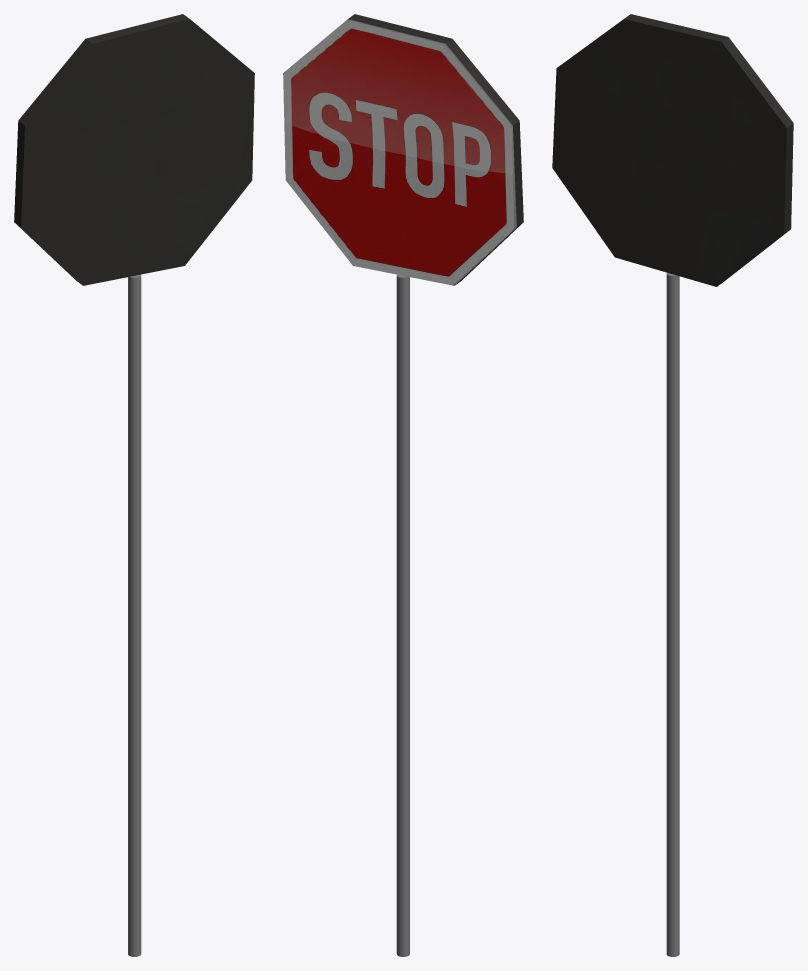
The model's file is stop.glb.
3 views of the same model, side by side, from view 1: azimuth 30°, elevation 25°; view 2: azimuth 150°, elevation 25°; view 3: azimuth 330°, elevation 25° (orthographic).
Parts seen in each view (by area): view 1: Cube, Cylinder; view 2: Cube, Cylinder; view 3: Cube, Cylinder.
Boxes of the visible parts, bbox=[...] form: Cube: bbox=[14, 14, 254, 285]; Cylinder: bbox=[128, 274, 141, 956]; Cube: bbox=[283, 14, 523, 285]; Cylinder: bbox=[396, 274, 409, 956]; Cube: bbox=[552, 14, 793, 286]; Cylinder: bbox=[666, 272, 679, 956].
Bounding box in the file's own units: 2.37 × 8.96 × 0.1208.
2 materials, 1 textured.
